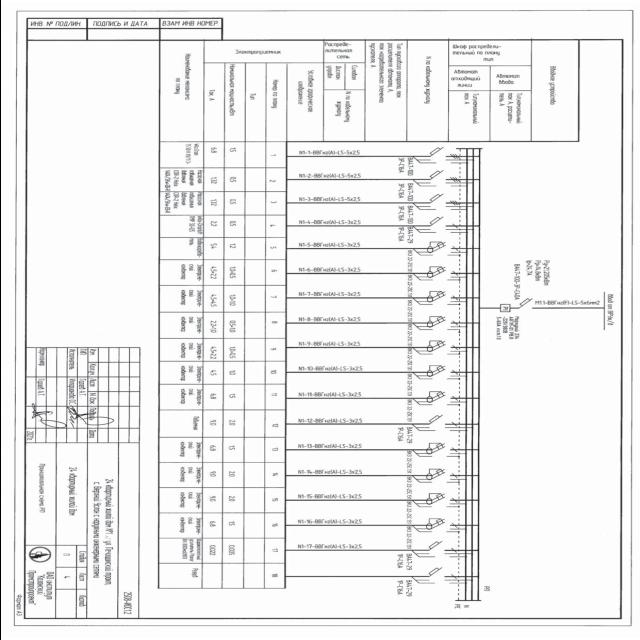-: (494, 316, 520, 342), (396, 182, 414, 202), (396, 226, 414, 246), (396, 204, 414, 224), (396, 157, 414, 177), (512, 262, 521, 300), (395, 553, 412, 572), (395, 579, 412, 598), (396, 426, 412, 444), (404, 372, 412, 397), (404, 526, 412, 550), (404, 476, 412, 500), (406, 250, 414, 274), (404, 398, 412, 422), (405, 323, 413, 347), (404, 451, 412, 475), (404, 348, 412, 372), (404, 274, 412, 298), (404, 500, 412, 524), (404, 298, 412, 322)
QF: (427, 169, 449, 182), (426, 540, 448, 553), (427, 192, 449, 204), (426, 146, 448, 158), (427, 414, 449, 426), (426, 566, 446, 578), (516, 298, 536, 310), (428, 216, 448, 226)
QFD: (425, 363, 458, 378), (425, 339, 458, 354), (424, 492, 458, 506), (424, 468, 458, 482), (425, 517, 458, 531), (425, 389, 458, 403), (425, 315, 458, 329), (425, 290, 458, 304), (425, 266, 458, 280), (426, 442, 458, 456), (426, 240, 458, 254)
WH: (498, 303, 510, 313)
